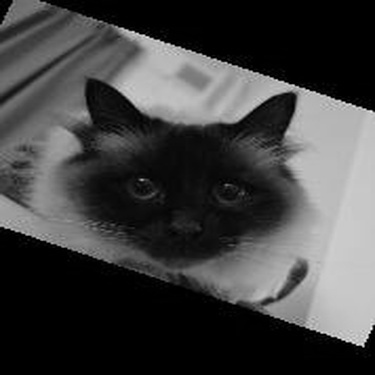cat: (3, 71, 321, 330)
